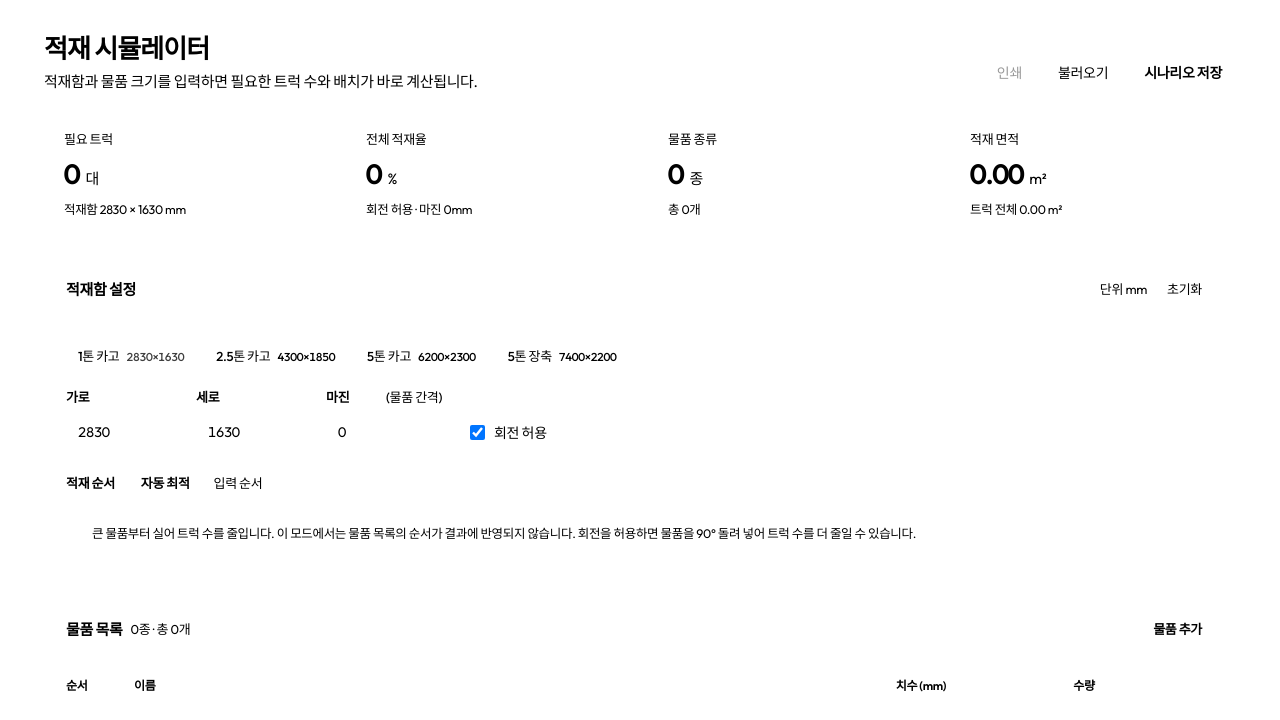
Test case: DeliveryPage — 물품 편집 › 물품을 지운 뒤 되돌릴 수 있다
The image size is (1280, 720).
expect the field named "적재함 가로" holds "2830": met, box [66,413,182,451]
Click the button "물품 추가" at (1178, 628), box [1141,612,1214,644]
(page scrolled)
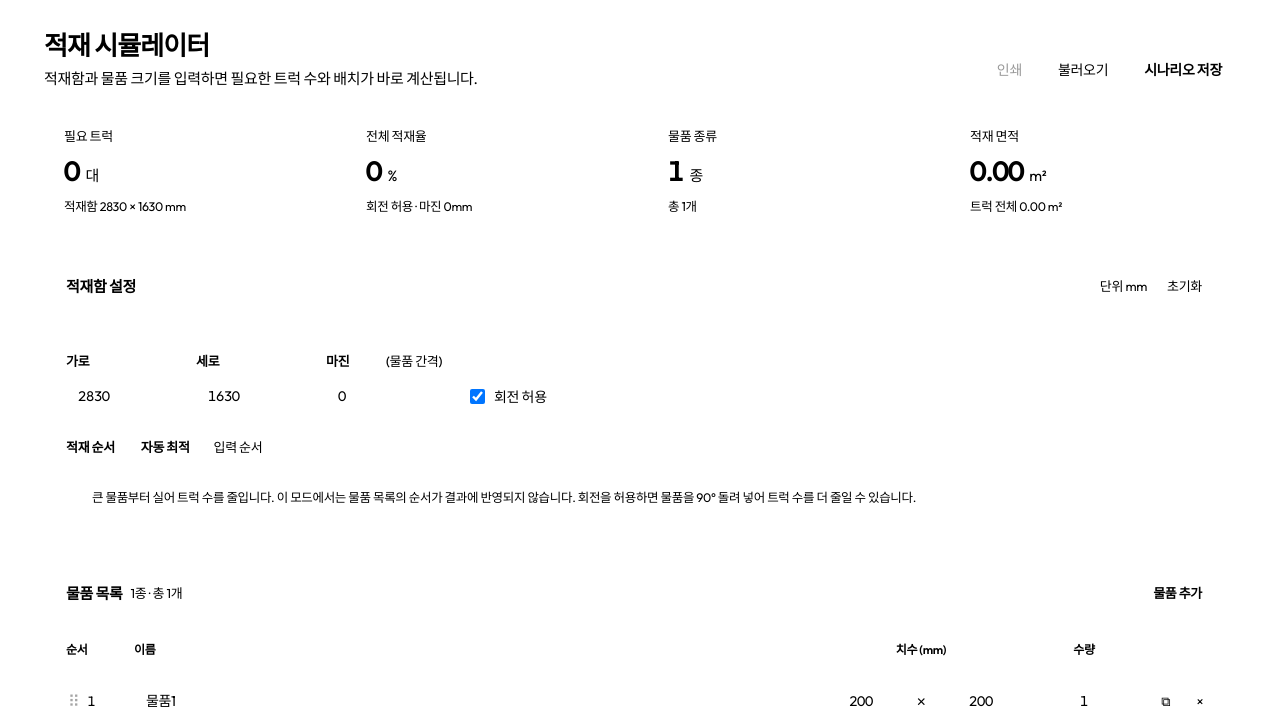
expect the number of elements with class "dl-item-row" is 1: met, box [68,682,1214,719]
Click the button named "삭제" at (1200, 701), box [1186,687,1214,715]
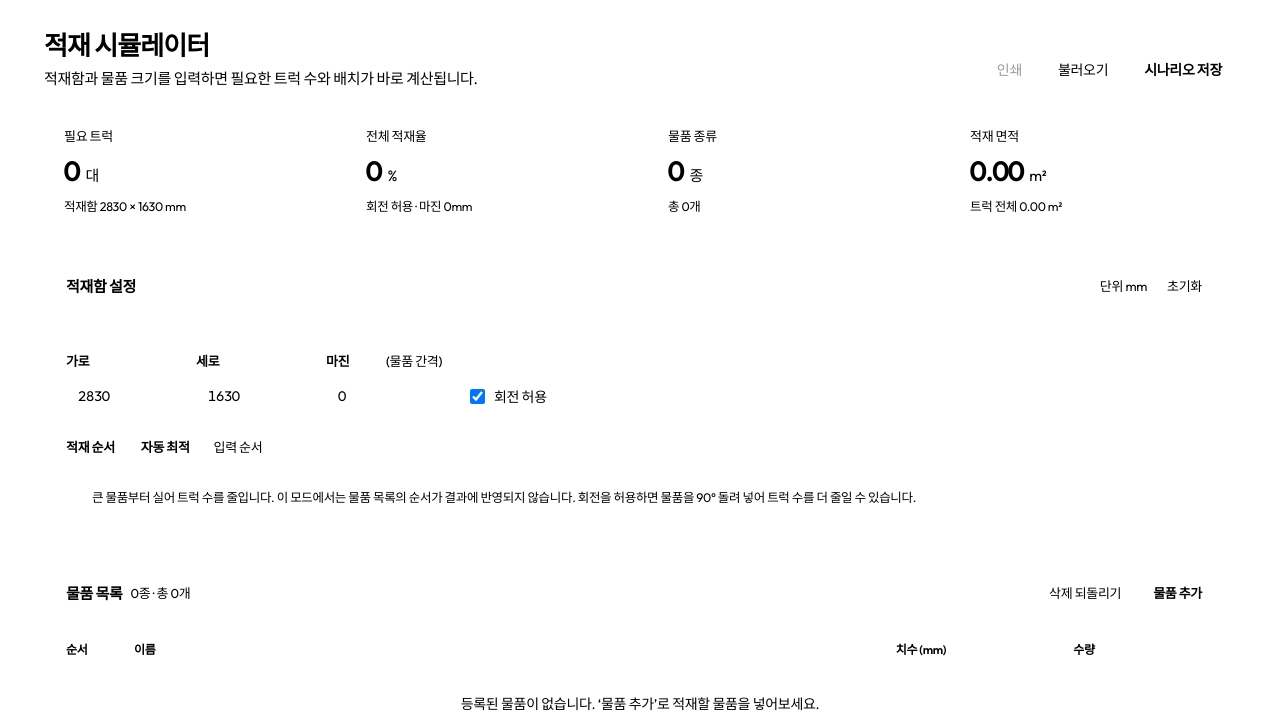
expect no elements with class "dl-item-row" are shown: met
Click the button "삭제 되돌리기" at (1085, 592), box [1037,576,1133,608]
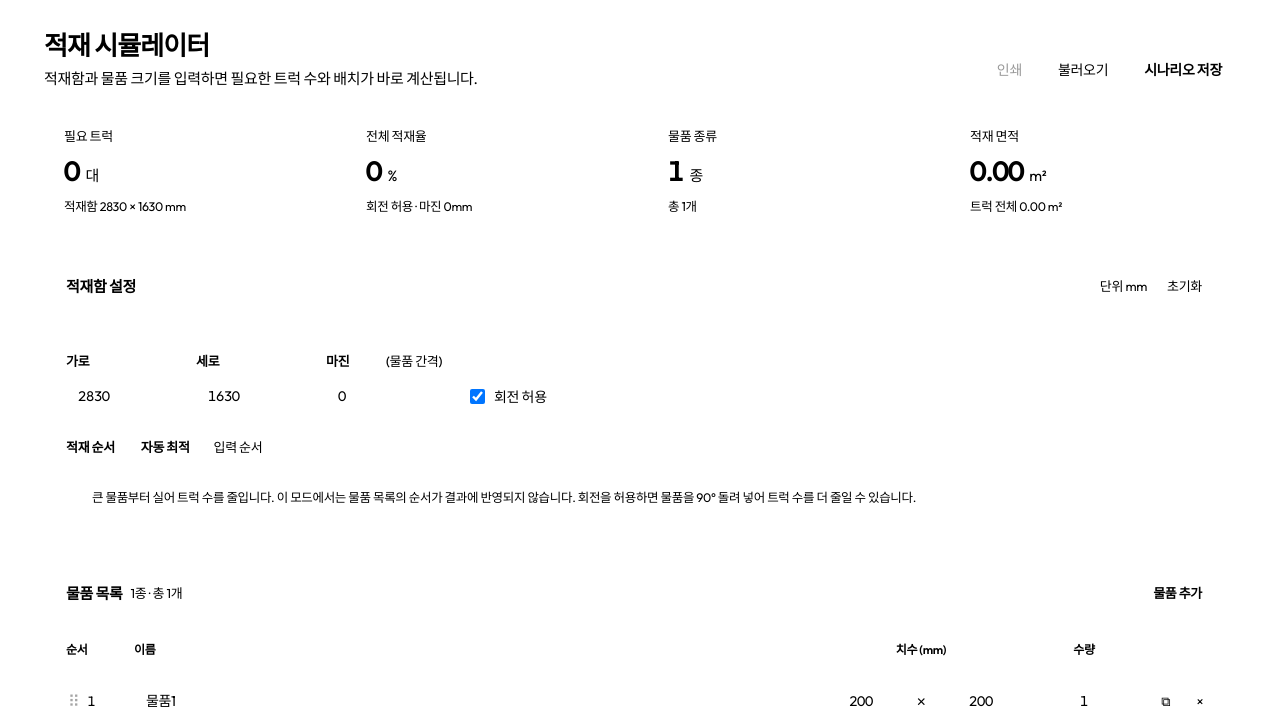
expect the number of elements with class "dl-item-row" is 1: met, box [68,682,1214,719]
